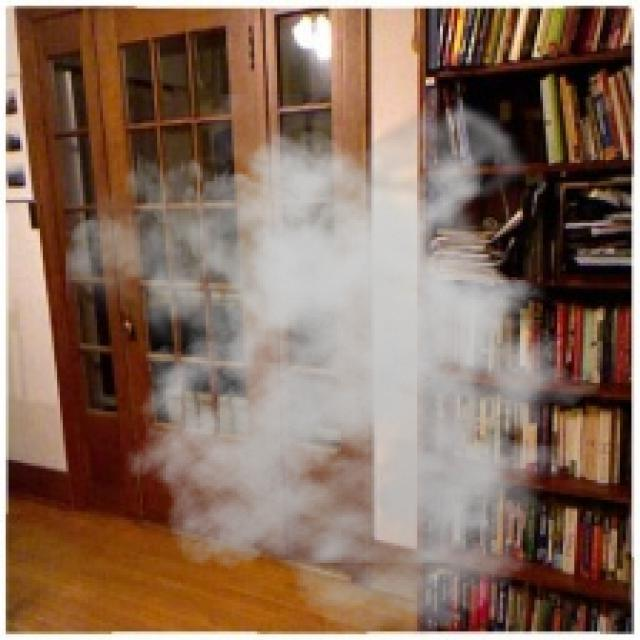Smoke: (65, 94, 620, 637)
